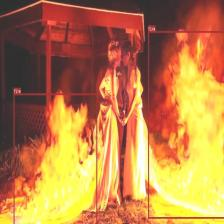fire: (147, 31, 224, 218), (13, 93, 97, 224)
